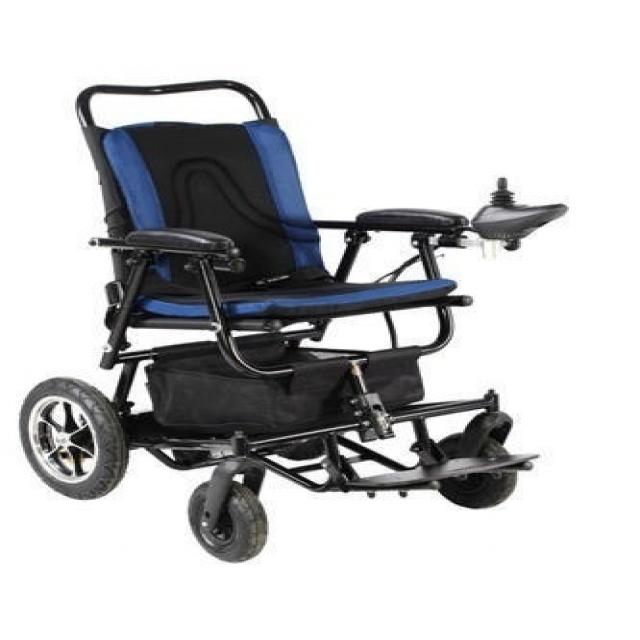wheelchair: (12, 72, 596, 569)
